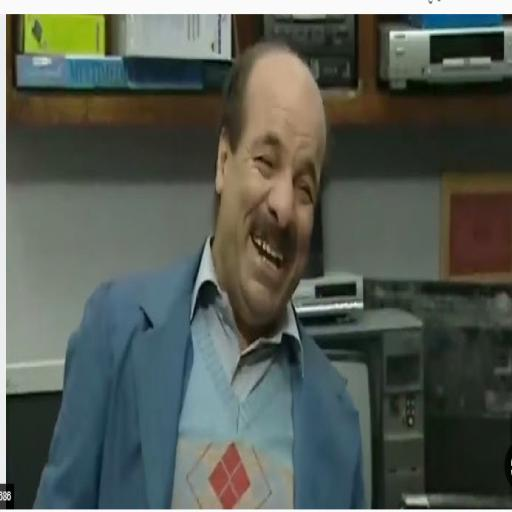beji_matrix: (213, 42, 327, 329)
